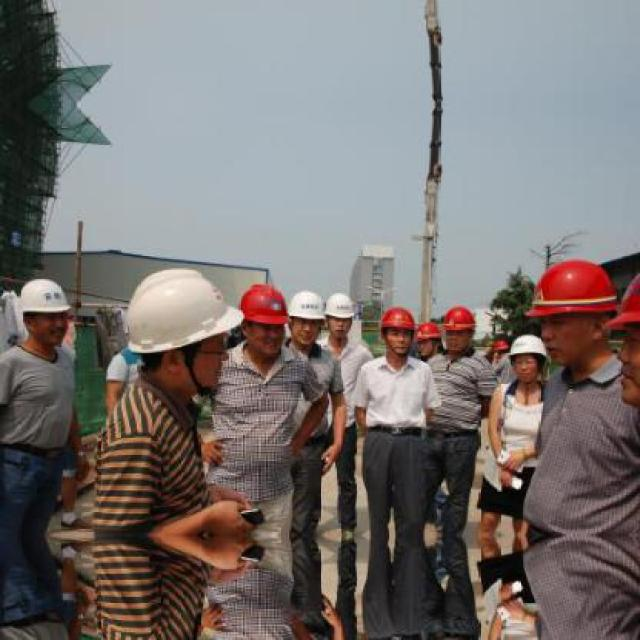helmet: (123, 263, 240, 396), (526, 256, 616, 362), (605, 268, 638, 412), (18, 277, 78, 348), (234, 280, 288, 354), (284, 284, 328, 350), (375, 302, 416, 360), (507, 329, 548, 385), (441, 302, 479, 353), (324, 292, 356, 342), (414, 320, 440, 360), (490, 336, 510, 360)
